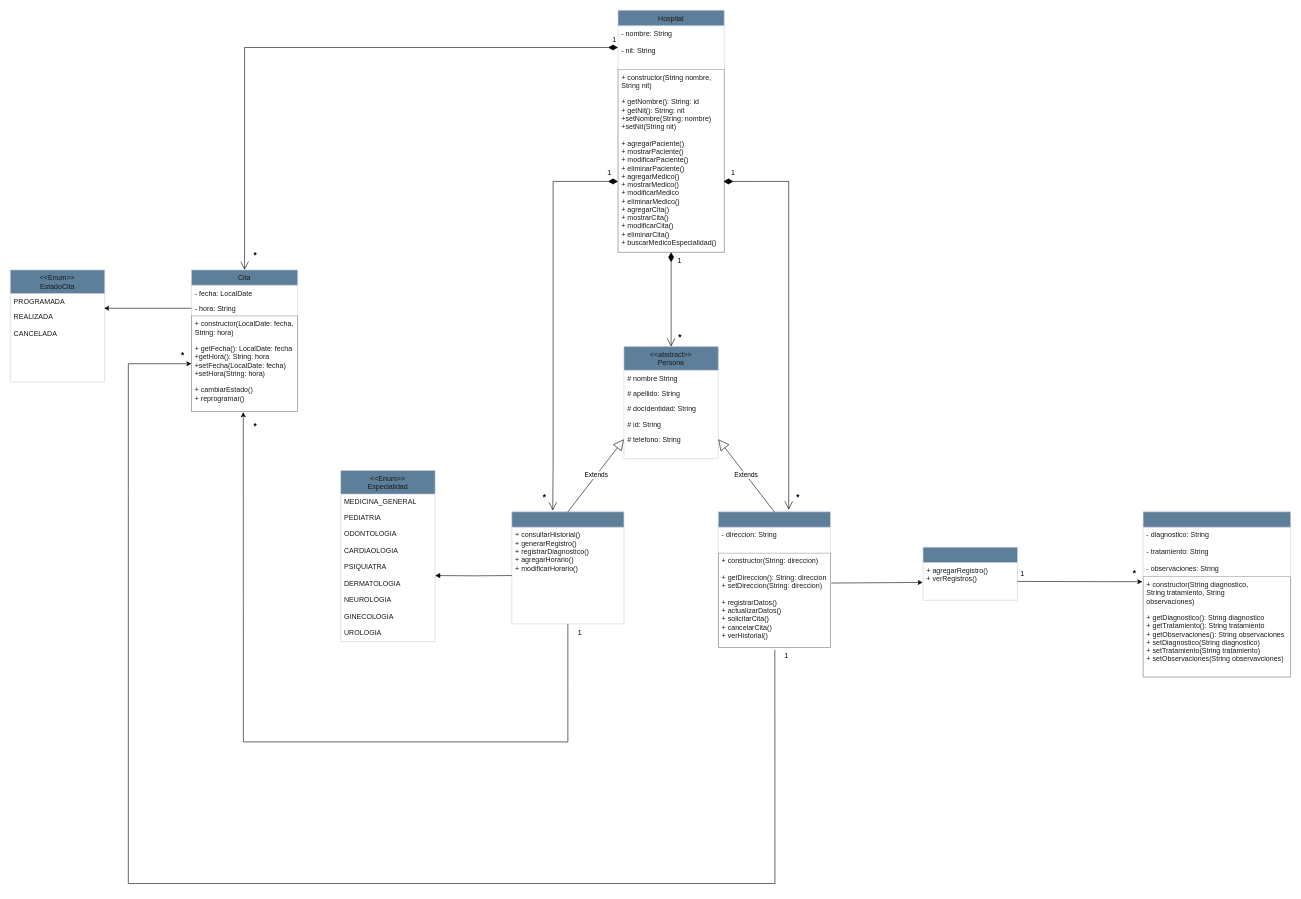
This 1301x899 diagram has some shape labels left out. Each missing label, with the box of its shape:
HistorialMedico: (922, 547, 1017, 600)
Medico: (511, 511, 624, 624)
Paciente: (718, 511, 830, 648)
RegistroMedico: (1143, 511, 1291, 677)
